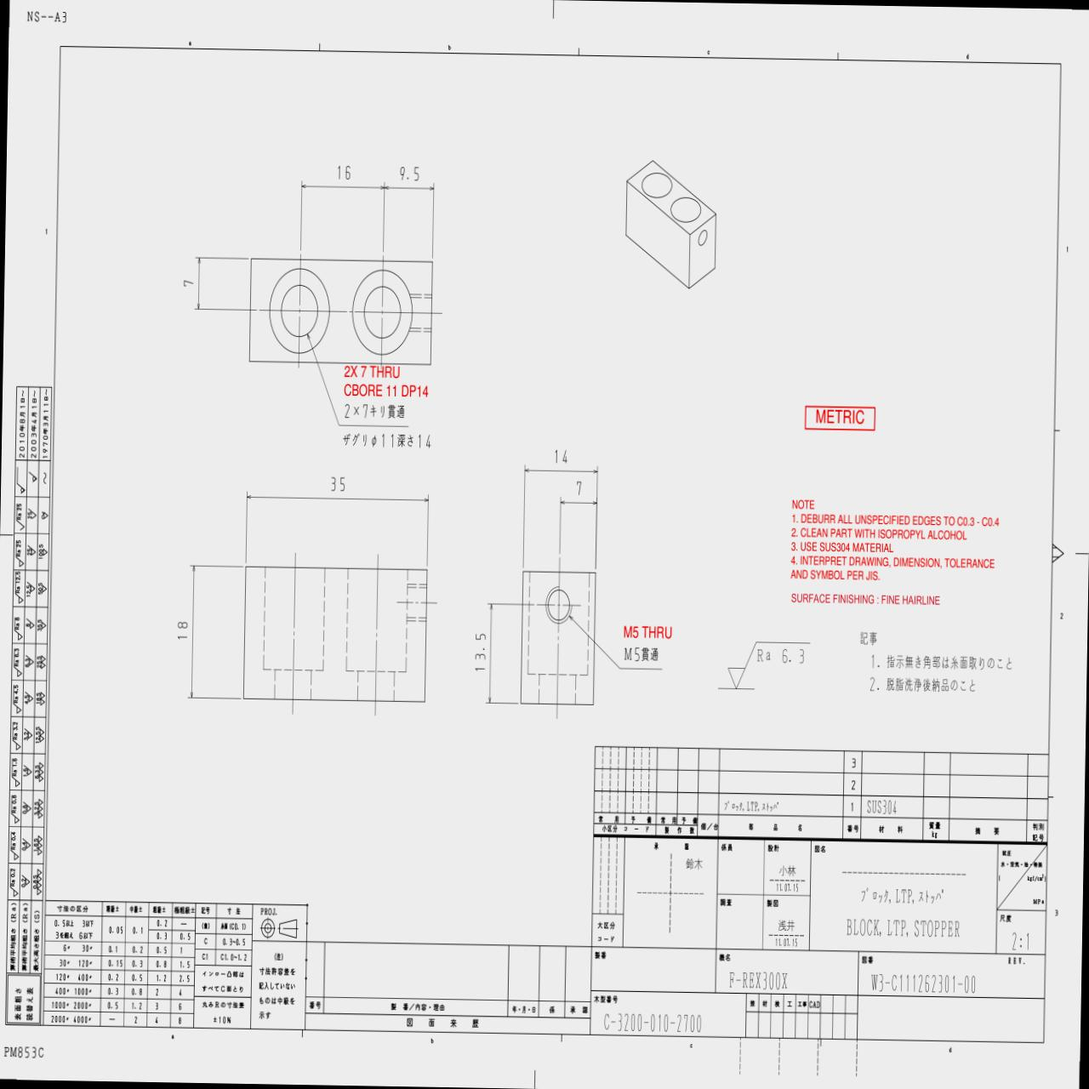basic_dimension: (474, 633, 487, 672), (399, 166, 420, 182), (337, 164, 351, 181), (331, 476, 345, 493), (177, 621, 188, 641), (555, 449, 567, 464), (183, 279, 194, 287), (577, 480, 582, 496)
dimension_diameter_symbol: (370, 432, 395, 449)
dimension_diameter_text: (379, 432, 396, 450)
dimension_metric_symbol: (624, 646, 640, 661)
dimension_metric_text: (633, 646, 641, 662)
surface_finish_symbol: (728, 642, 810, 690)
surface_finish_text: (781, 648, 804, 664)
